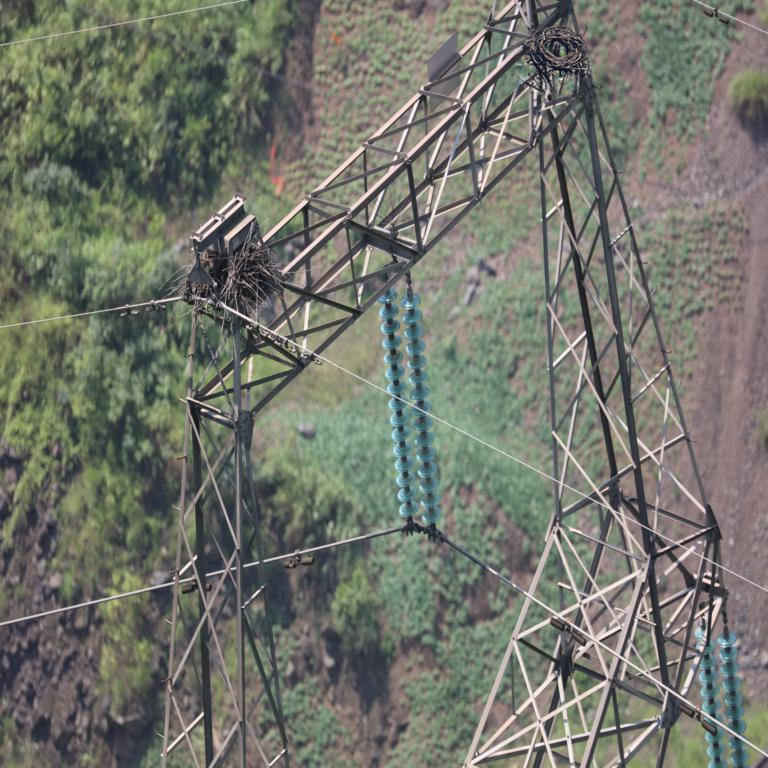nest: (186, 244, 279, 317), (527, 26, 589, 77)
